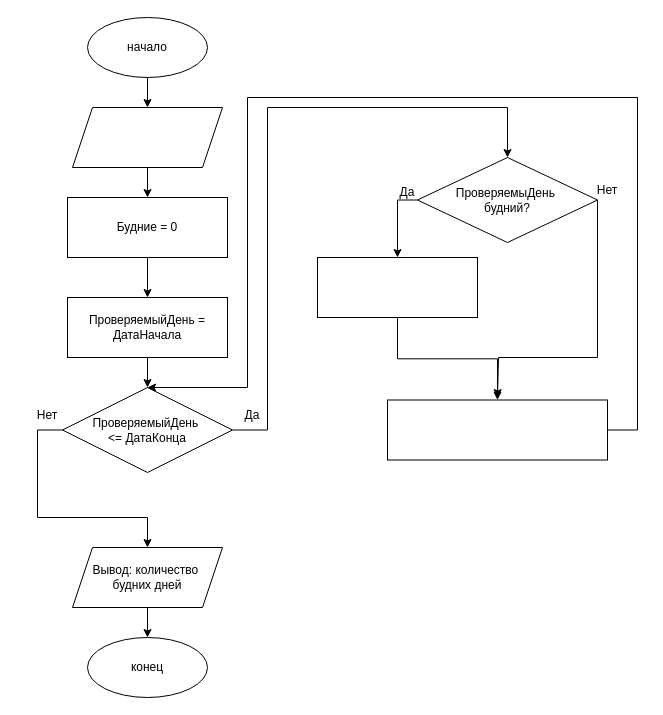
The diagram is 663 pixels wide and 715 high, and some of its shapes have lost their labels. Each missing label, with the centre of its shape:
Будние += 1: (x=397, y=287)
Ввод: Датаначала, ДатаКонца: (x=147, y=137)
ПроверяемыйДень = СледующийДень(ПроверяемыйДень): (x=497, y=429)
